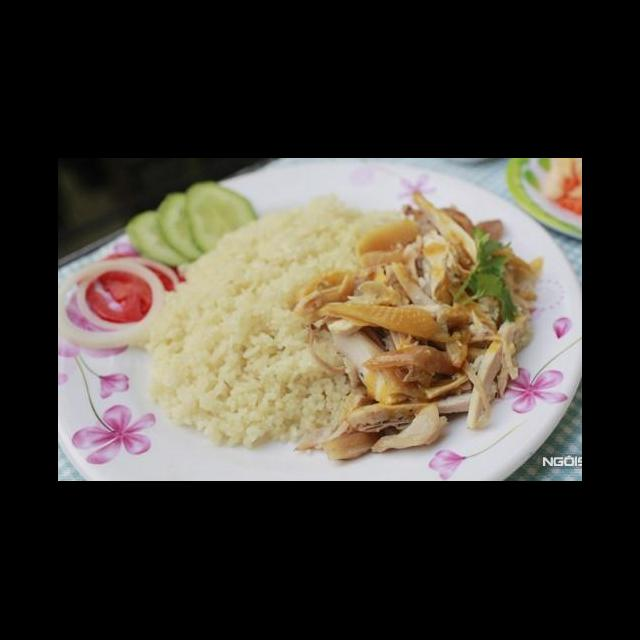com: (134, 190, 406, 450)
com ga: (66, 185, 582, 482)
thit ga: (290, 188, 546, 462)
